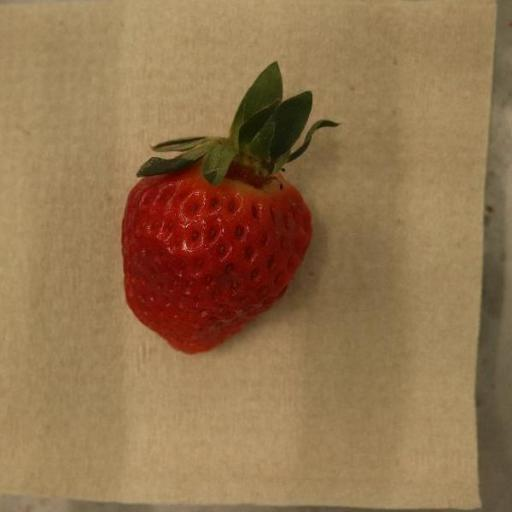Strawberry: (122, 62, 340, 356)
